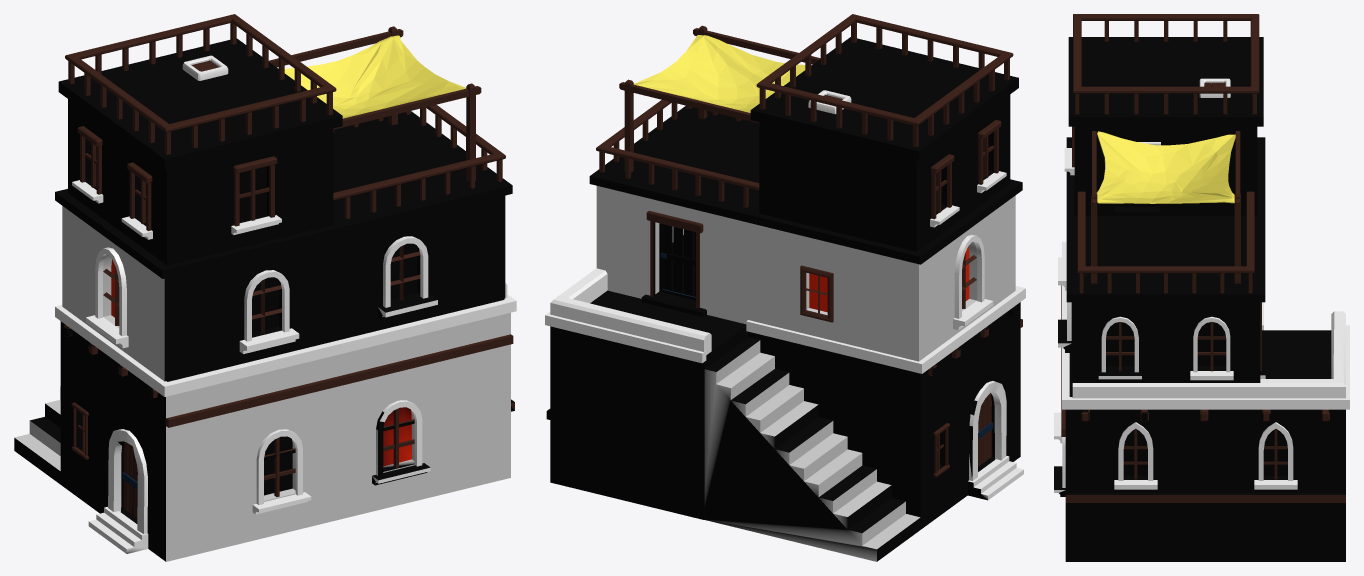
The model's file is civilian_house_31_a.FBX.
3 views of the same model, side by side, from view 1: azimuth 30°, elevation 25°; view 2: azimuth 150°, elevation 25°; view 3: azimuth 270°, elevation 25° (orthographic). The views are drawn at different scales.
Parts seen in each view (by area): view 1: civilian_house_31_a; view 2: civilian_house_31_a; view 3: civilian_house_31_a.
Part boxes in pixels (bbox=[...]): civilian_house_31_a: bbox=[14, 14, 516, 561]; civilian_house_31_a: bbox=[545, 14, 1025, 561]; civilian_house_31_a: bbox=[1054, 14, 1349, 561].
Size of the model in its own units: 1146 by 1244 by 844.
